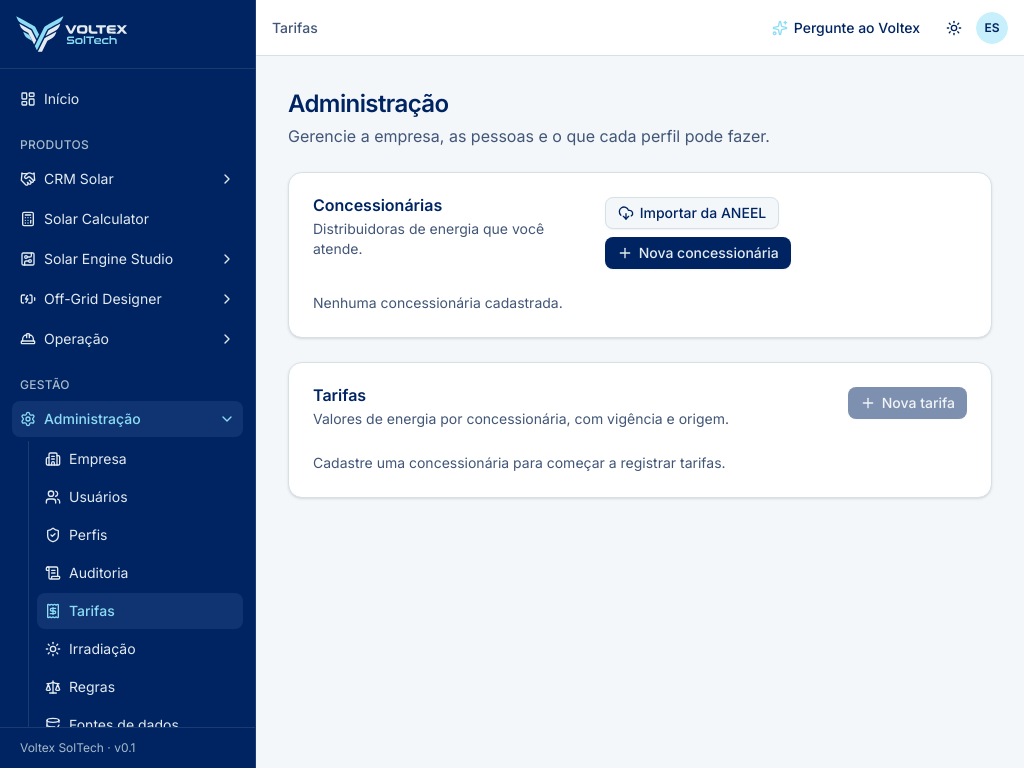
Test: Administração → Tarifas → importar da ANEEL › roda a importação e mostra o resumo com a fonte e a licença
Click the button "Importar da ANEEL" at point(692, 213), box [605,197,779,229]
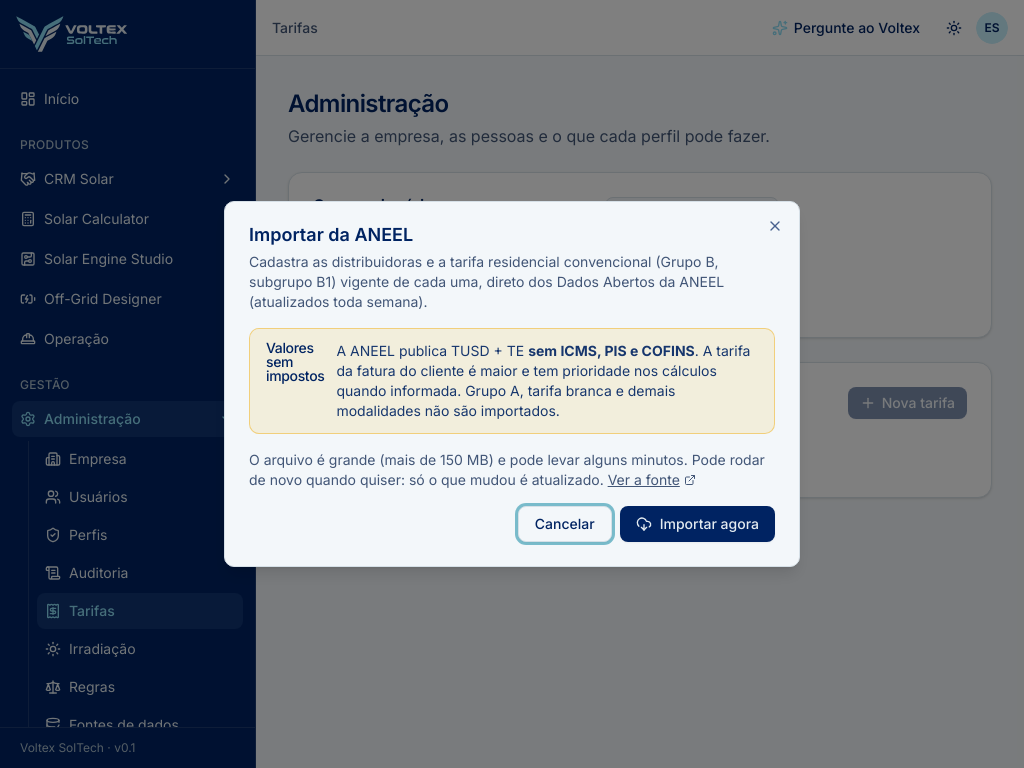
Click the button "Importar agora" at point(697, 524), box [620,506,775,542]
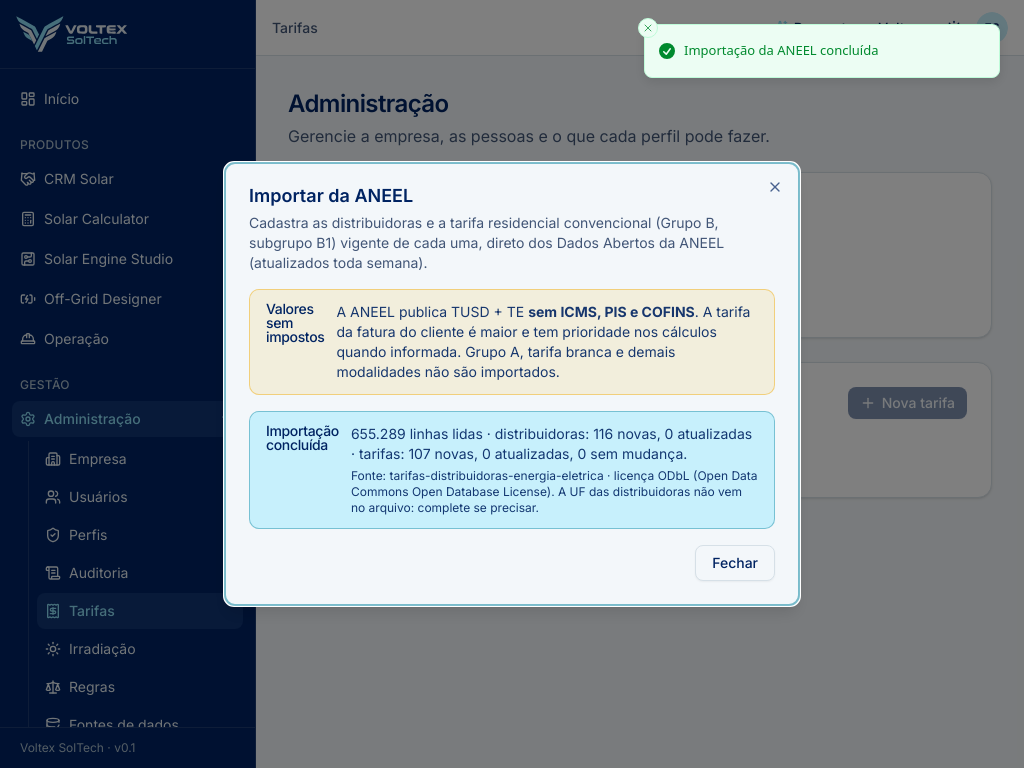
Check: the text "Importação concluída" is shown, box [266,424,339,452]
Check: the text "107 novas" is shown, box [351,424,758,464]
Check: the text "licença ODbL" is shown, box [351,468,758,516]
